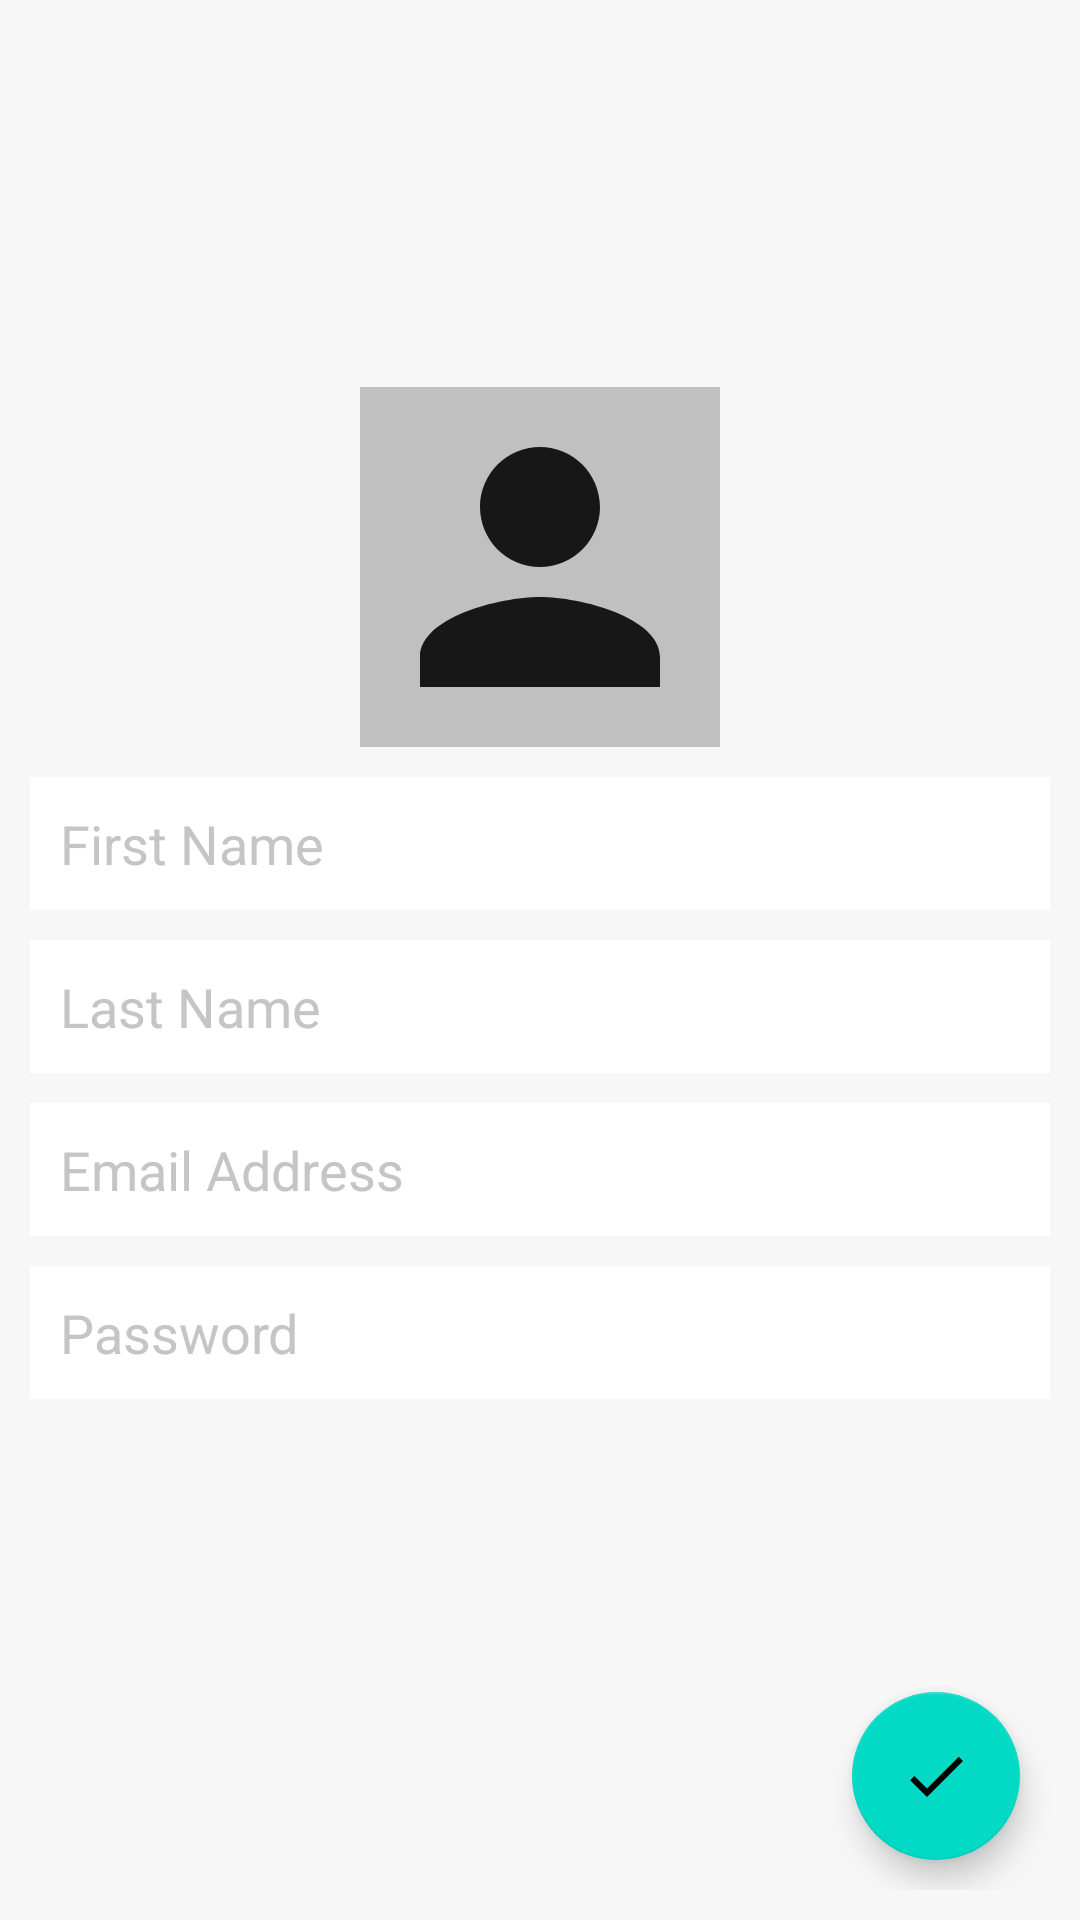

Where to tap for icons on this 1080*1920 app screen, as (x,y):
done: (936,1776)
person: (540,567)
